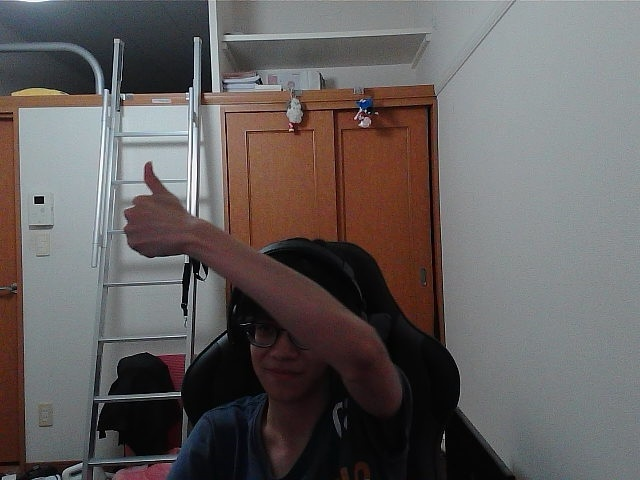thumb_up: (128, 166, 184, 247)
